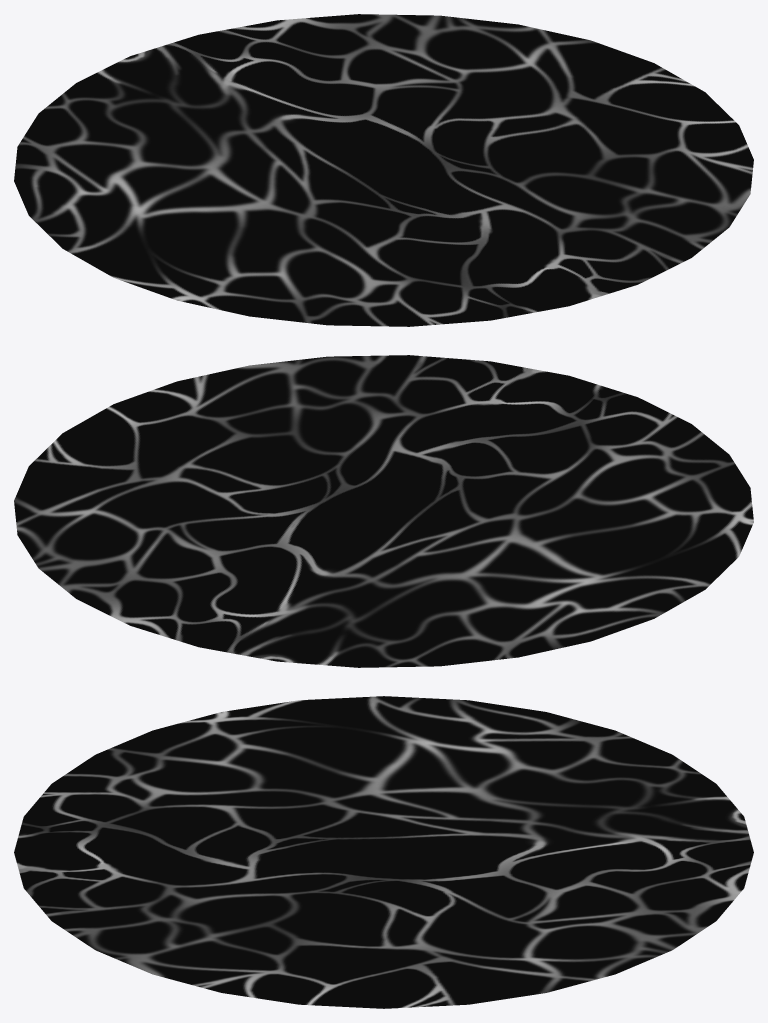
The model's file is fbx_US_water.FBX.
3 renders of one model, top to bottom at view 1: azimuth 30°, elevation 25°; view 2: azimuth 150°, elevation 25°; view 3: azimuth 270°, elevation 25°, orthographic.
Parts seen in each view (by area): view 1: water; view 2: water; view 3: water.
Part boxes in pixels (<box>): water: <box>14,14,753,326</box>; water: <box>14,355,753,667</box>; water: <box>14,696,753,1008</box>.
Bounding box in the file's own units: 10910 × 0.00438 × 10910.
1 material, 1 textured.
